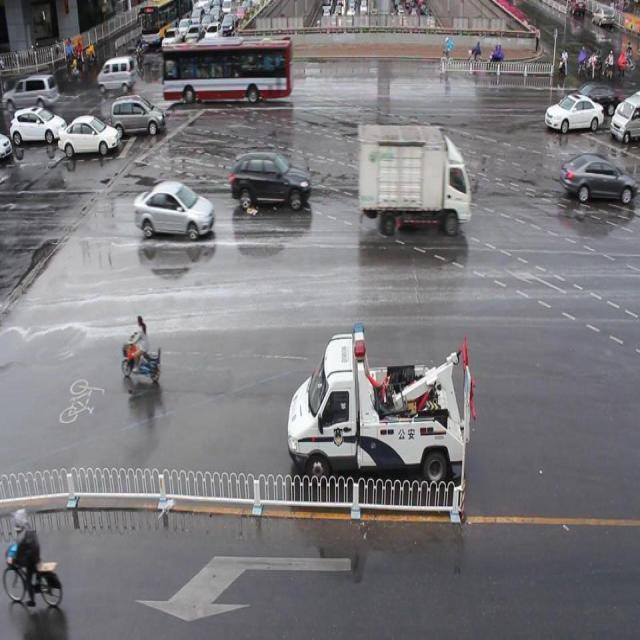car: (281, 316, 480, 522), (347, 119, 474, 248), (153, 38, 300, 109), (227, 144, 313, 223), (556, 140, 640, 220), (130, 174, 217, 249), (545, 83, 606, 140), (57, 114, 122, 166), (107, 89, 163, 144), (10, 100, 64, 152), (96, 57, 138, 94)
